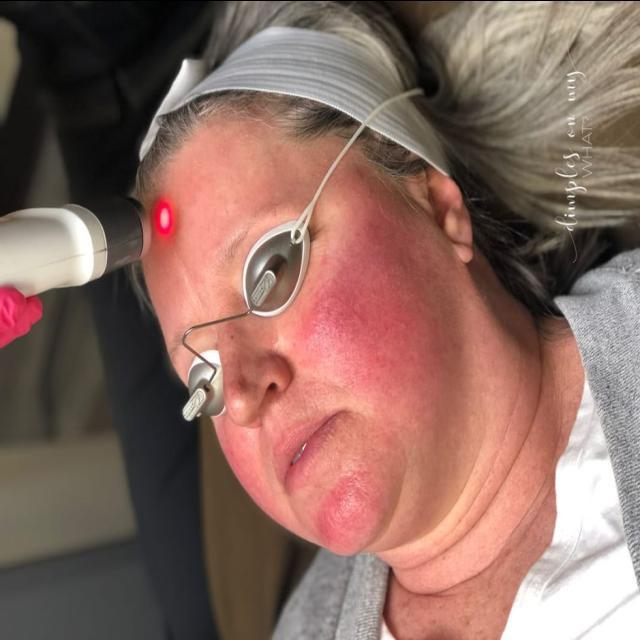Rosacea: (299, 236, 432, 382)
